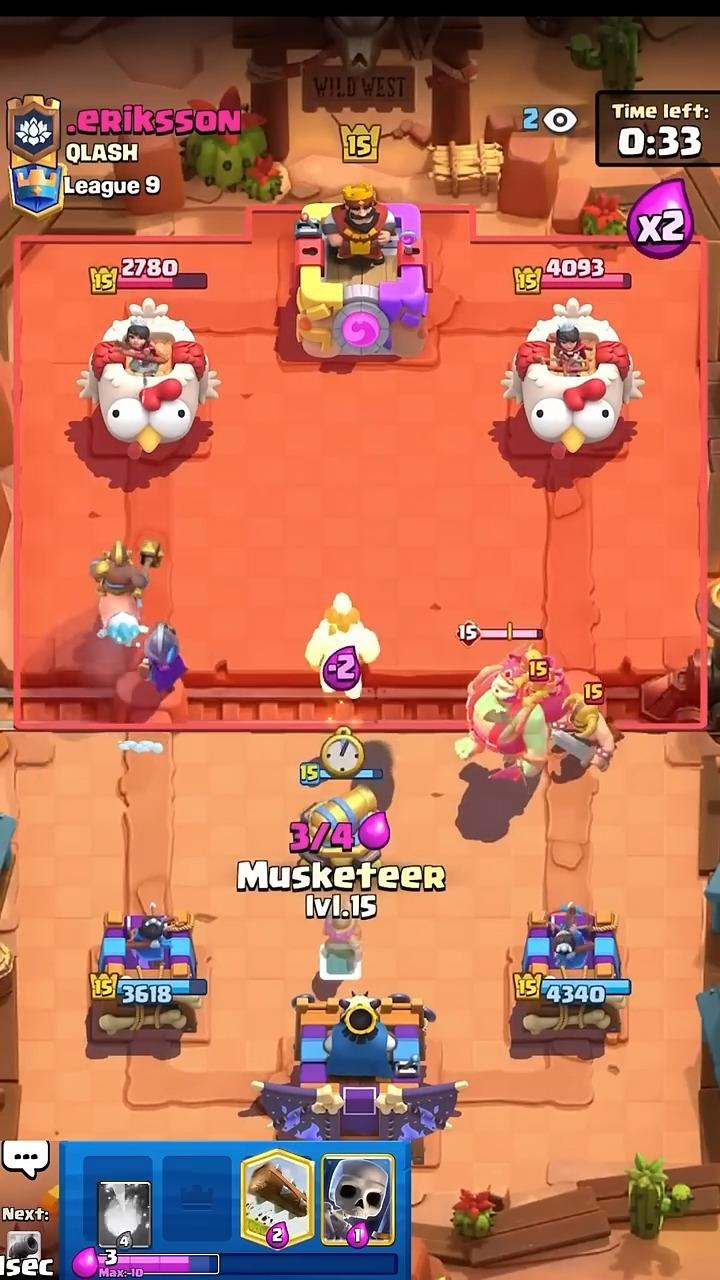cannon: (301, 785, 378, 859)
elite barbarians: (549, 693, 615, 770)
goblin giant: (455, 646, 567, 780)
hog rider: (90, 540, 162, 624)
ice golem: (305, 593, 380, 701)
ice spirit: (98, 611, 147, 646)
musketeer: (140, 623, 186, 699)
